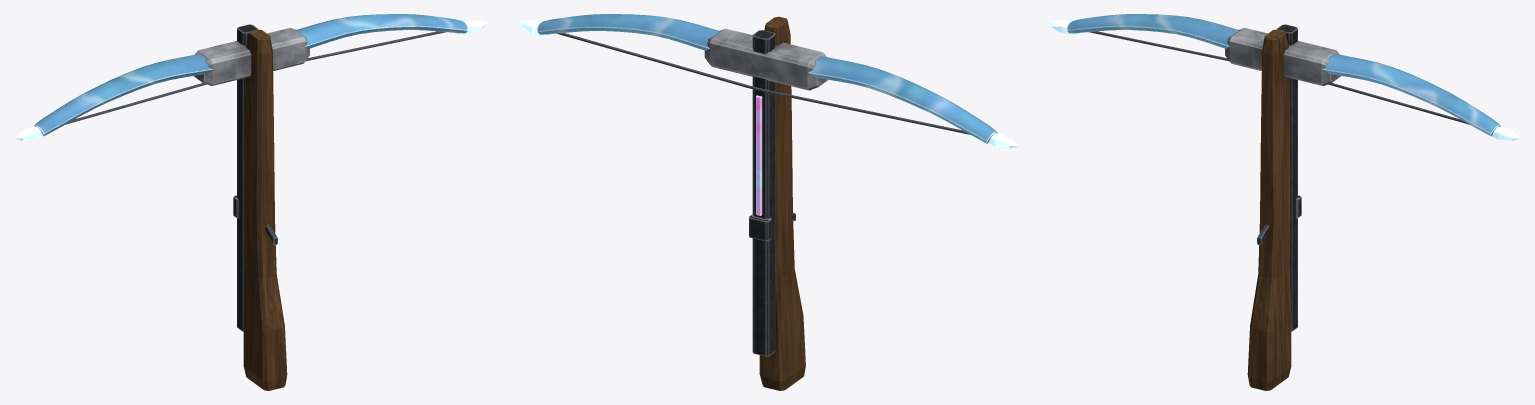
File: crystal-weapon-crossbow.glb
3 views of the same model, side by side, from view 1: azimuth 30°, elevation 25°; view 2: azimuth 150°, elevation 25°; view 3: azimuth 330°, elevation 25° (orthographic). The views are drawn at different scales.
Parts seen in each view (by area): view 1: stock, left-limb, prod-core, right-limb, stock-spine, bowstring; view 2: stock, stock-spine, prod-core, left-limb, right-limb, bowstring, prism-track; view 3: stock, right-limb, prod-core, left-limb, stock-spine, bowstring.
Part boxes in pixels (x1,y1,x2,y2): stock: (243, 29, 287, 390); left-limb: (34, 54, 212, 136); prod-core: (194, 27, 309, 86); right-limb: (296, 14, 467, 48); stock-spine: (233, 24, 257, 331); bowstring: (65, 31, 445, 124); stock: (759, 16, 805, 390); stock-spine: (749, 30, 775, 356); prod-core: (704, 28, 828, 90); left-limb: (808, 57, 997, 143); right-limb: (537, 14, 719, 50); bowstring: (557, 33, 970, 134); prism-track: (756, 95, 762, 215); stock: (1247, 29, 1291, 390); right-limb: (1322, 54, 1500, 136); prod-core: (1225, 27, 1340, 86); left-limb: (1067, 14, 1238, 48); stock-spine: (1277, 24, 1301, 331); bowstring: (1089, 31, 1469, 124).
Size of the model in its own units: 1.34 by 0.926 by 0.174.
Materials: 10 (10 with a texture image).
